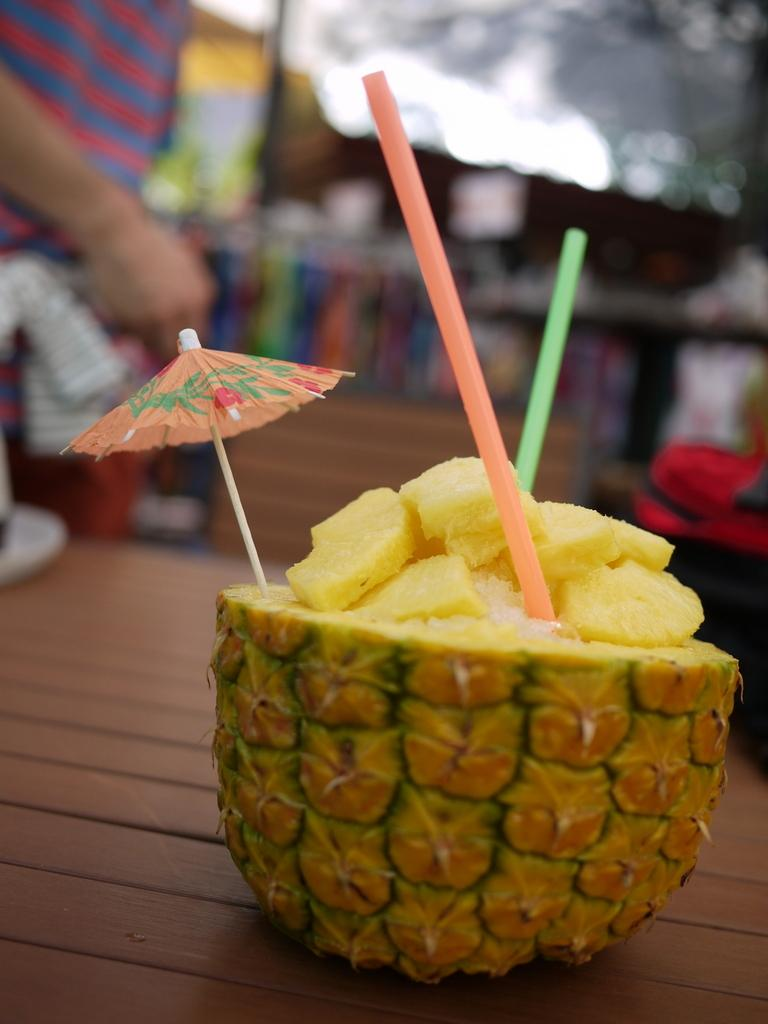umbrella: (58, 300, 368, 594)
